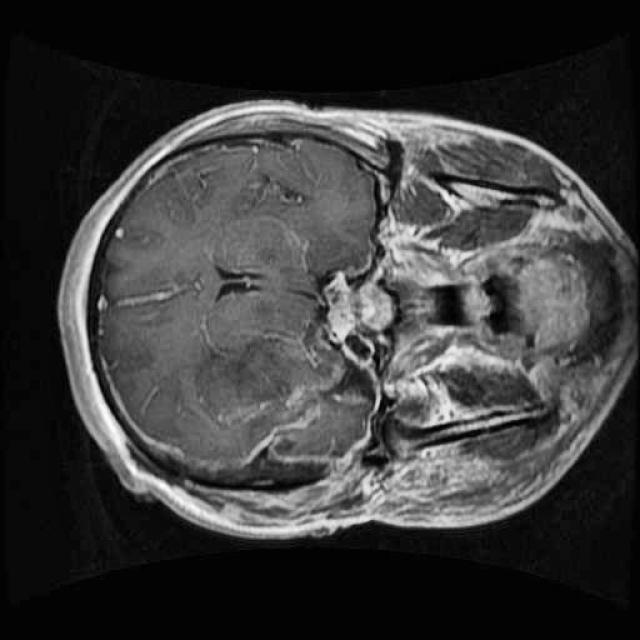Non-Tumor: (185, 330, 384, 472)
